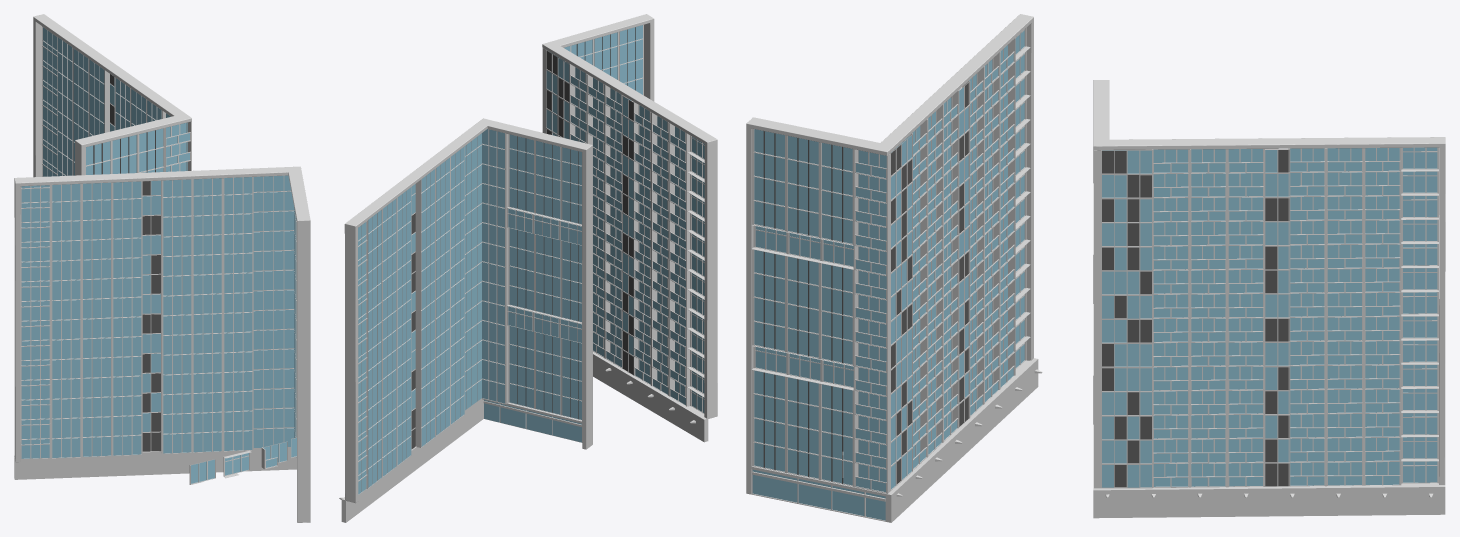
3 renders of one model, left to right at view 1: azimuth 30°, elevation 25°; view 2: azimuth 150°, elevation 25°; view 3: azimuth 270°, elevation 25°, orthographic. The views are drawn at different scales.
Visible parts, largest first — view 1: Cube.016, Plane.007, Cube.014, Cube.015, Cube.007, Plane.008, Cube.009, Cube.013, Cube.004, Cube.008, Cube.006, Cube.017 (+3 smaller); view 2: Cube.016, Cube.007, Cube.004, Cube.009, Cube.014, Cube.006, Plane.008, Plane.003, Cube.015, Cube.005, Cube.010, Cube.013 (+4 smaller); view 3: Cube.007, Cube.016, Cube.019, Plane.002, Cube.017, Cube.008, Plane.008, Cube.010, Cube.014, Cube.009, Cube.013, Cube.018 (+3 smaller).
Part boxes in pixels (x1,y1,x2,y2): Cube.016: (51,177,253,458); Plane.007: (253,175,294,448); Cube.014: (14,166,310,522); Cube.015: (20,185,50,459); Cube.007: (57,37,165,176); Plane.008: (142,180,161,451); Cube.009: (33,14,191,177); Cube.013: (14,447,296,479); Cube.004: (85,128,164,174); Cube.008: (42,26,57,176); Cube.006: (165,121,191,171); Cube.017: (294,207,296,458); Cube.016: (569,64,690,406); Cube.007: (367,146,464,488); Cube.004: (508,134,581,420); Cube.009: (344,118,592,503); Cube.014: (542,14,717,418); Cube.006: (481,129,508,404); Plane.008: (546,50,634,375); Plane.003: (465,133,481,410); Cube.015: (687,135,704,415); Cube.005: (507,207,581,343); Cube.010: (341,398,581,522); Cube.013: (593,351,708,442); Cube.007: (1152,148,1401,487); Cube.016: (910,38,1015,470); Cube.019: (752,128,853,486); Plane.002: (1101,149,1290,488); Cube.017: (853,149,890,493); Cube.008: (1401,147,1438,484); Plane.008: (891,81,970,490); Cube.010: (1093,424,1445,518); Cube.014: (746,14,1033,494); Cube.009: (1093,80,1445,484); Cube.013: (751,358,1038,522); Cube.018: (752,225,853,390).
Size of what is drawn, in the model's own units: 3429 by 4365 by 7292.
